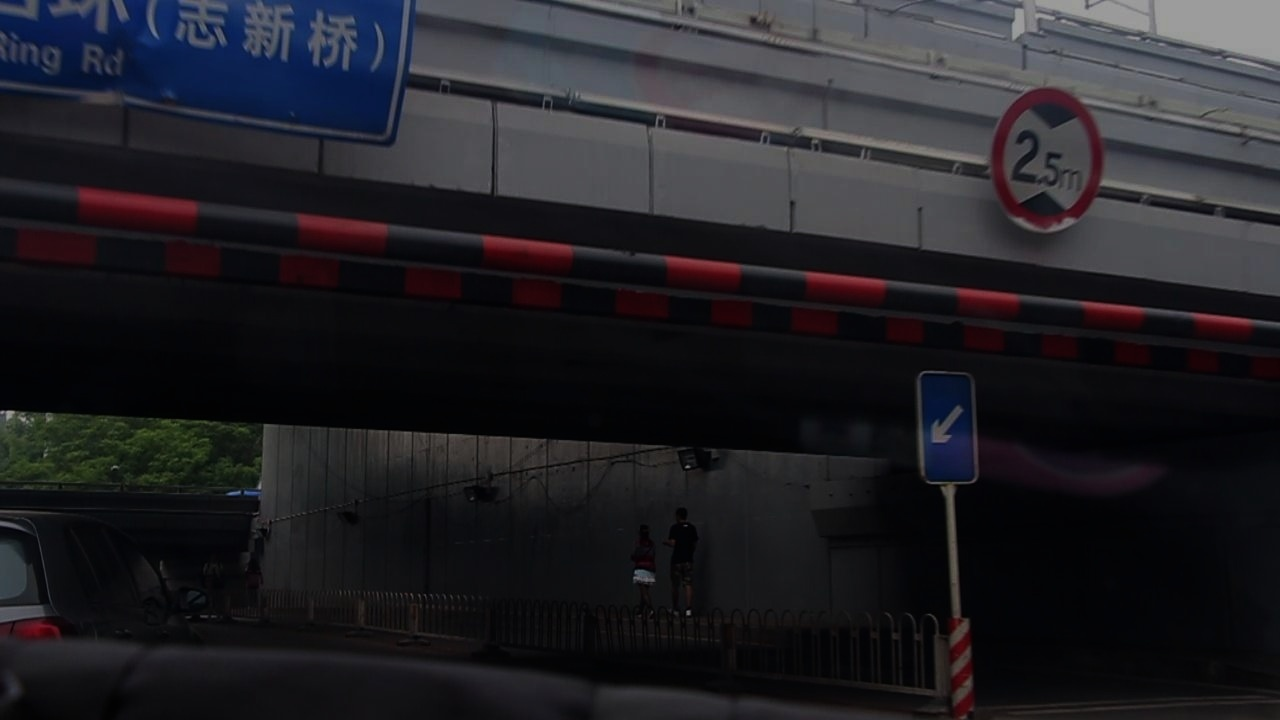Prohibitory Signs: (990, 84, 1108, 235)
